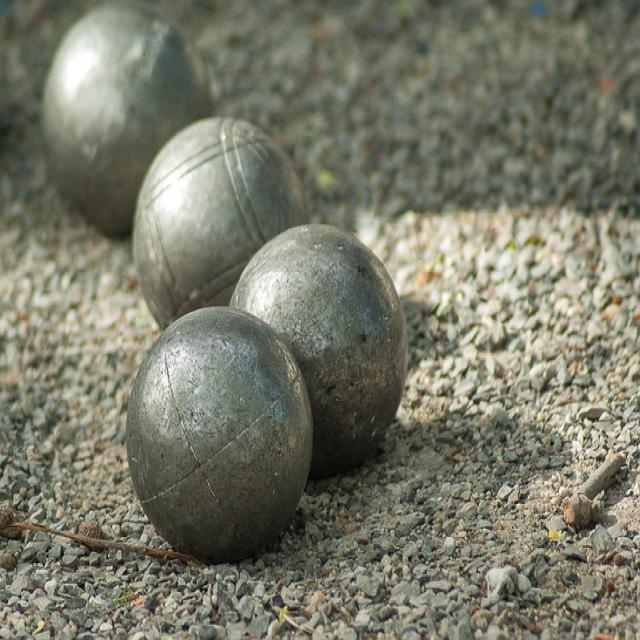petanque: (118, 309, 314, 578), (229, 218, 414, 488), (37, 1, 226, 249), (128, 106, 325, 343)
